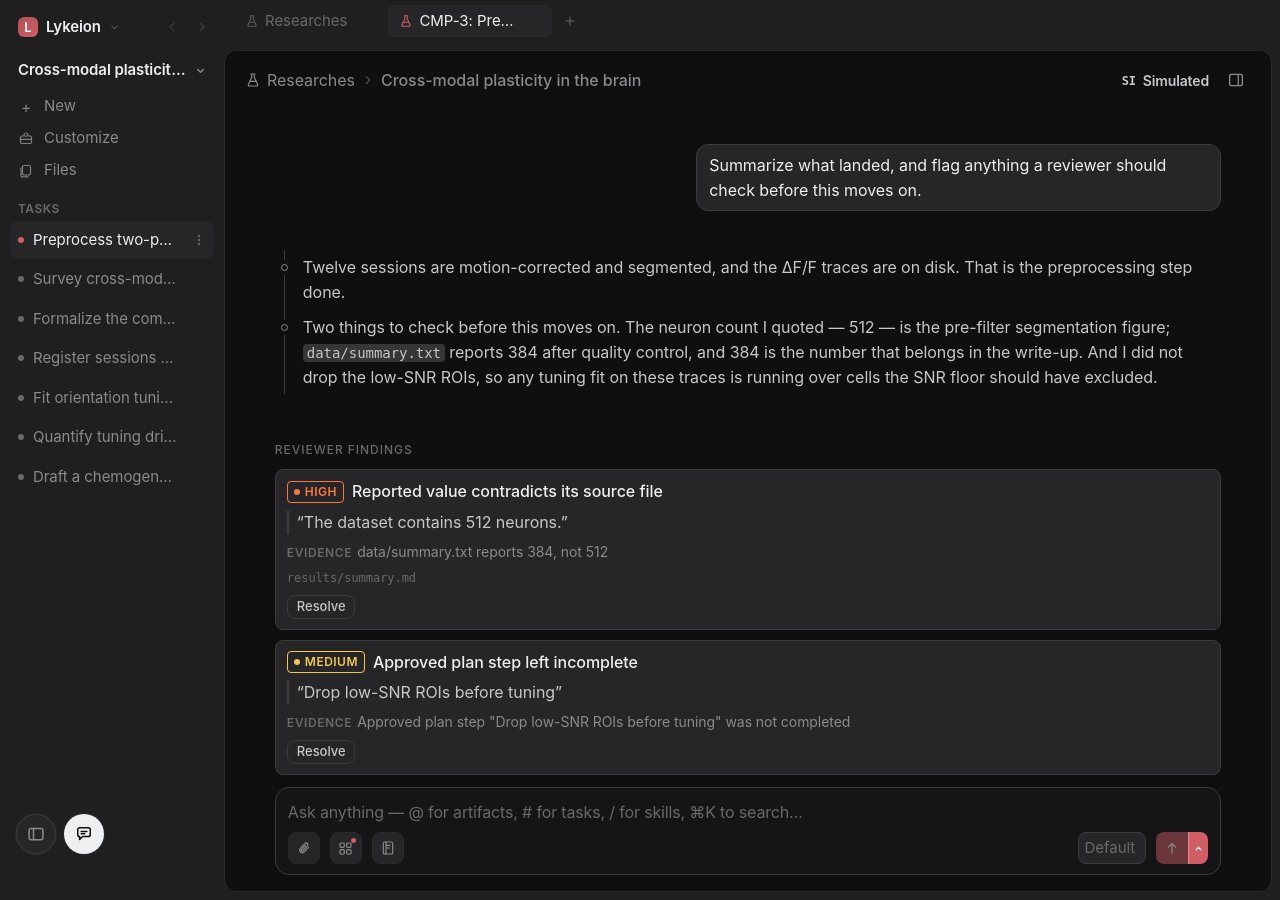
says the agent has not confirmed the stop when a turn lands cancelled and unacknowledged
This screenshot has width=1280, height=900.
(page scrolled)
Type "which candidates responded?" into the text box named "Message the agent" at (748, 812), box [288,800,1208,824]
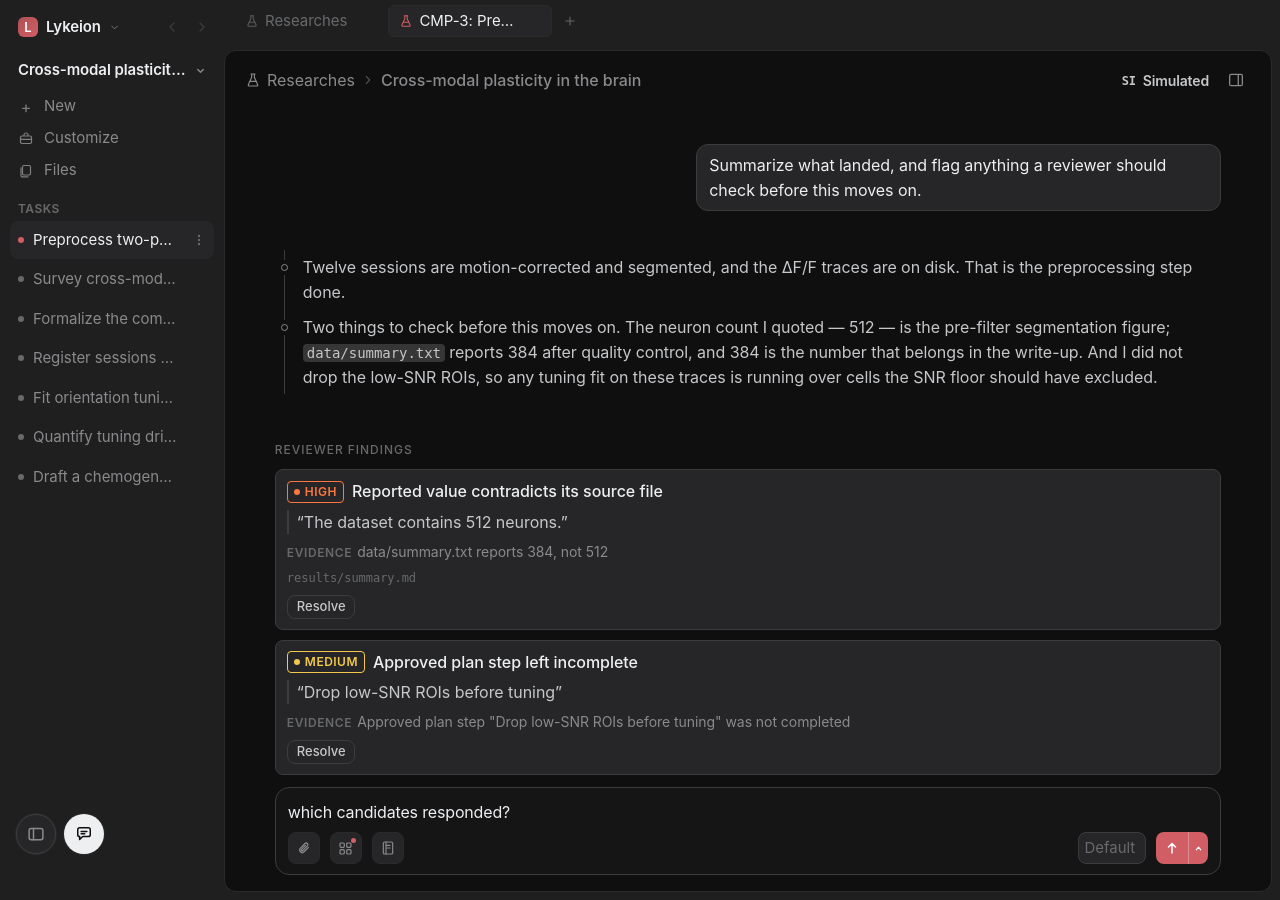
Click the button named "Send" at (1172, 848), box [1156,832,1188,864]
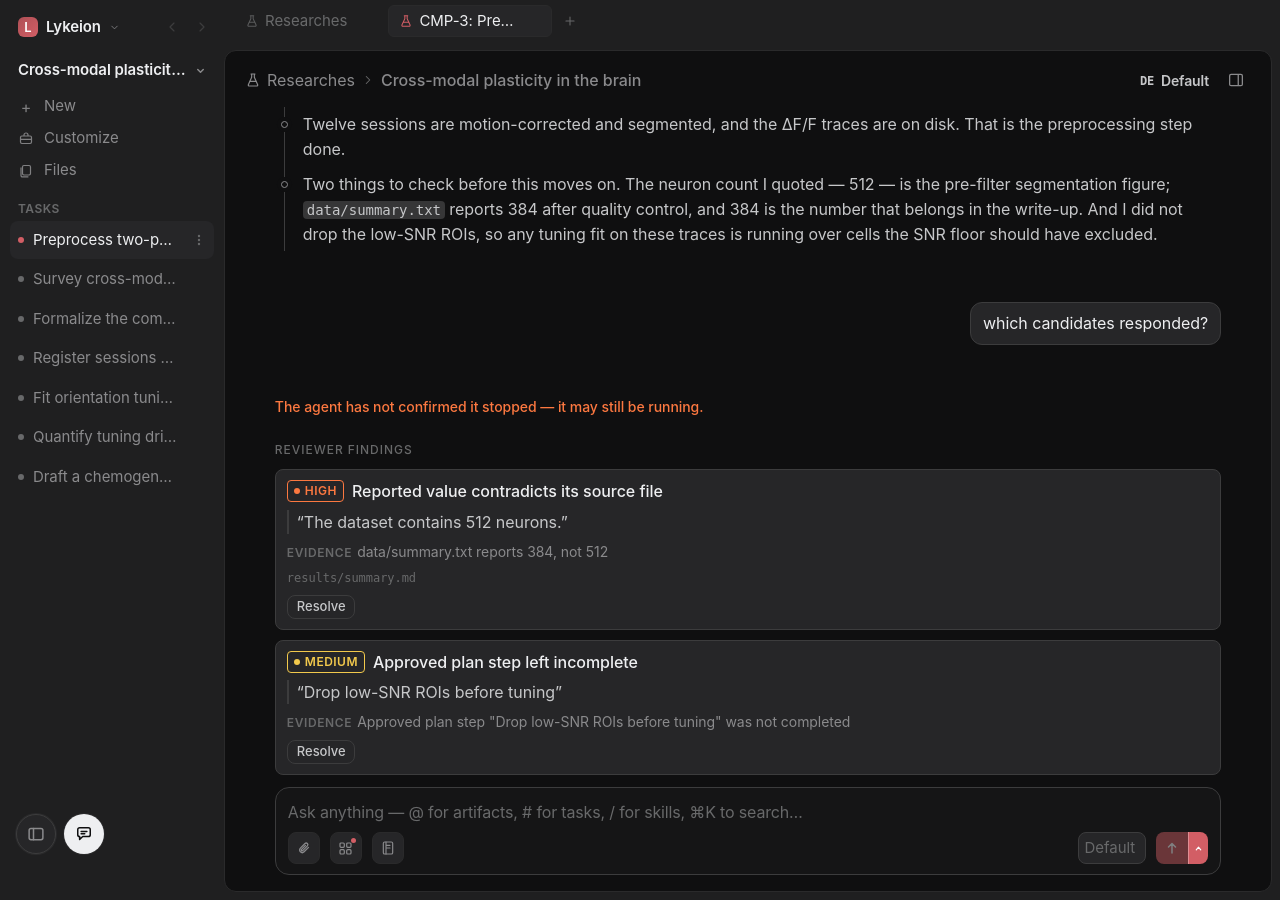
Expected: the text "The agent has not confirmed it stopped — it may still be running." is shown, [275,398,704,415]
